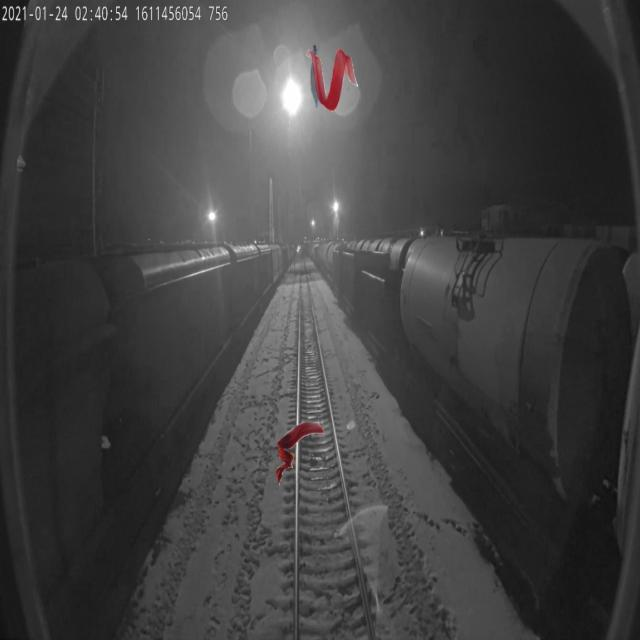floating object: (305, 48, 359, 112), (276, 422, 325, 486), (310, 44, 324, 108)
